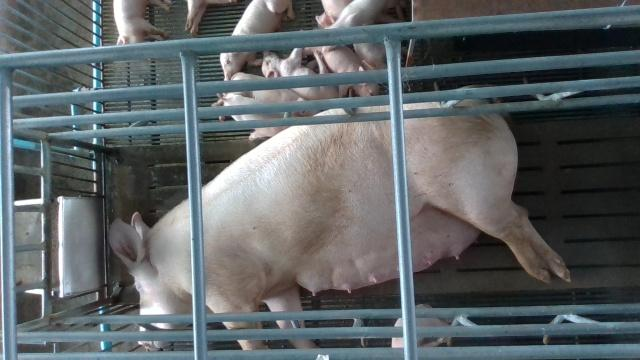piglet: (220, 0, 295, 82), (230, 72, 320, 118), (262, 51, 337, 98), (324, 0, 388, 51), (323, 44, 379, 98), (113, 0, 171, 46), (393, 303, 451, 348)
sow-sleep-lactate: (108, 100, 570, 351)
